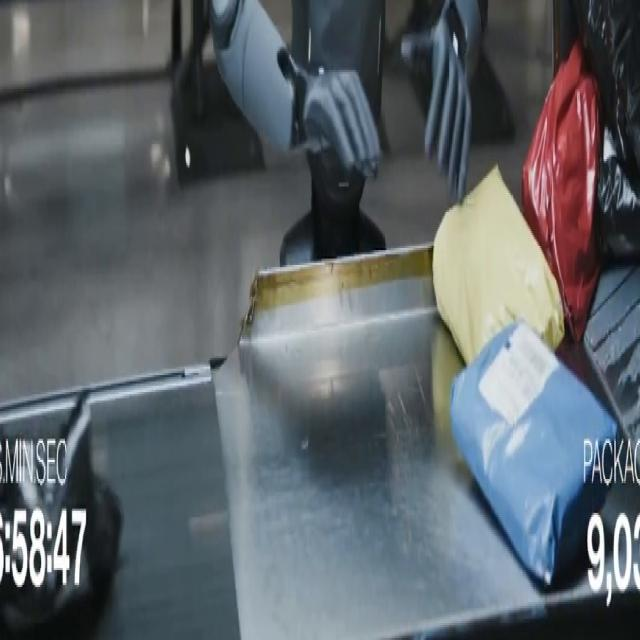package: (451, 323, 616, 587), (0, 397, 122, 633), (433, 168, 564, 364), (522, 43, 601, 341), (573, 0, 639, 167), (597, 130, 639, 260)
